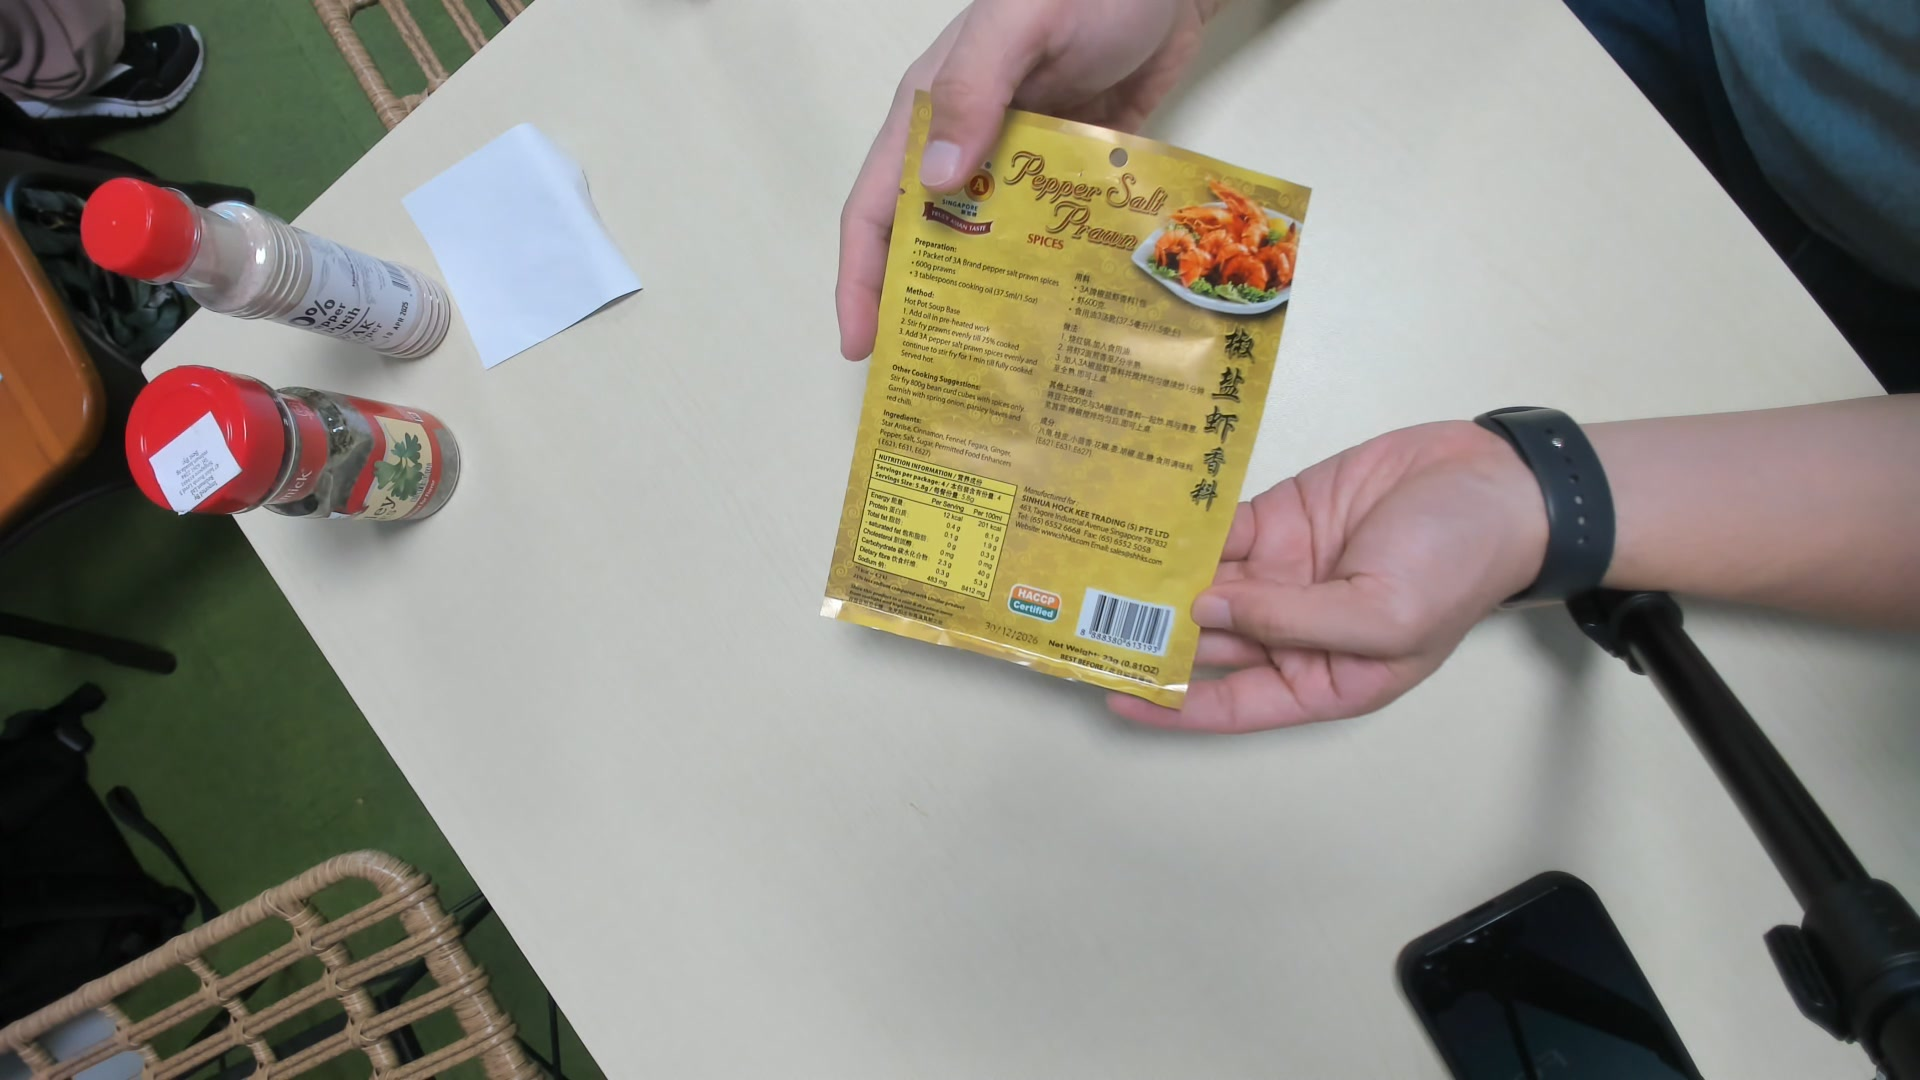HerbsSpicesPepper_400-499g_Halal_NonHealthy: (831, 94, 1313, 713)
